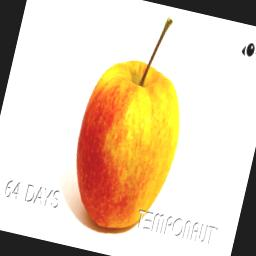Apple Overripe: (58, 0, 207, 240)
